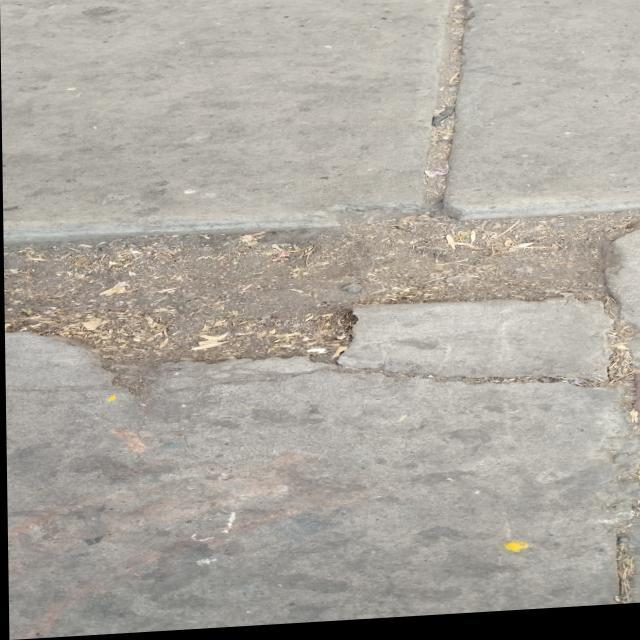hole: (3, 198, 640, 398)
